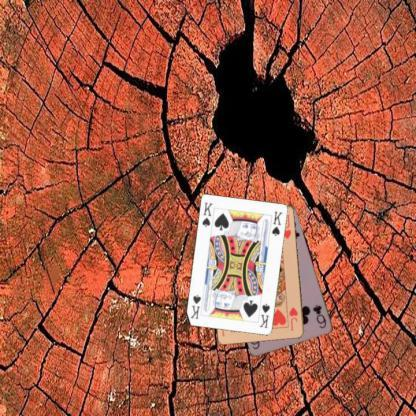6c: (310, 301, 328, 330)
Jh: (287, 305, 299, 332)
Ks: (199, 199, 214, 228), (257, 300, 271, 330)
